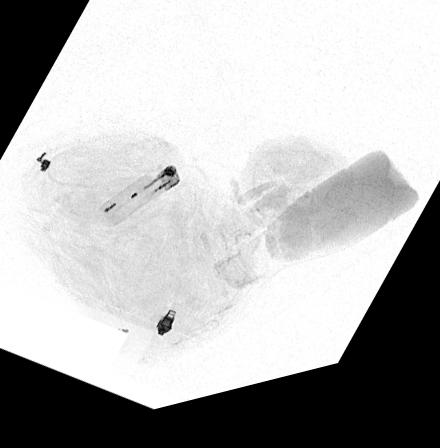Lighter: (100, 172, 179, 232)
